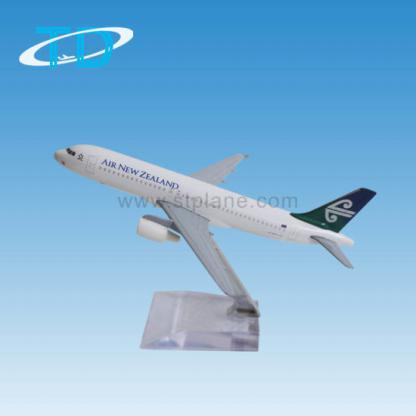CIV_Plane: (47, 137, 380, 283)
